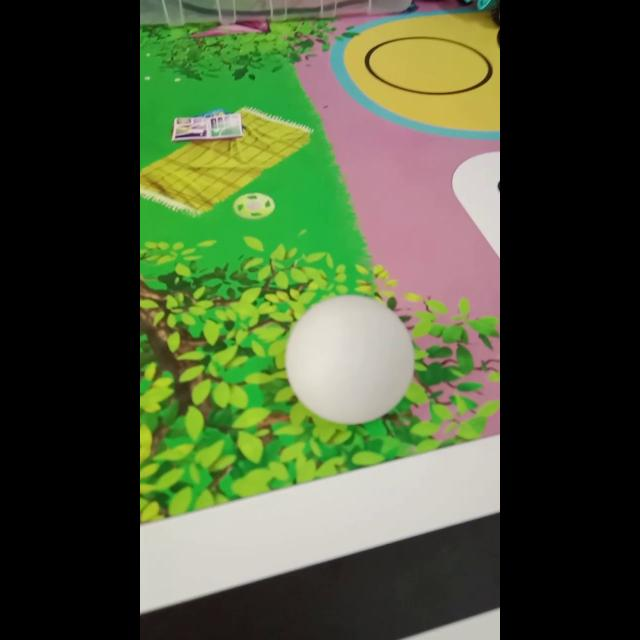white ball: (283, 294, 415, 426)
